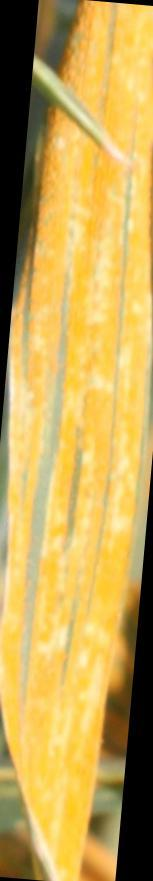Wheat: (19, 6, 153, 489), (6, 651, 111, 826)
